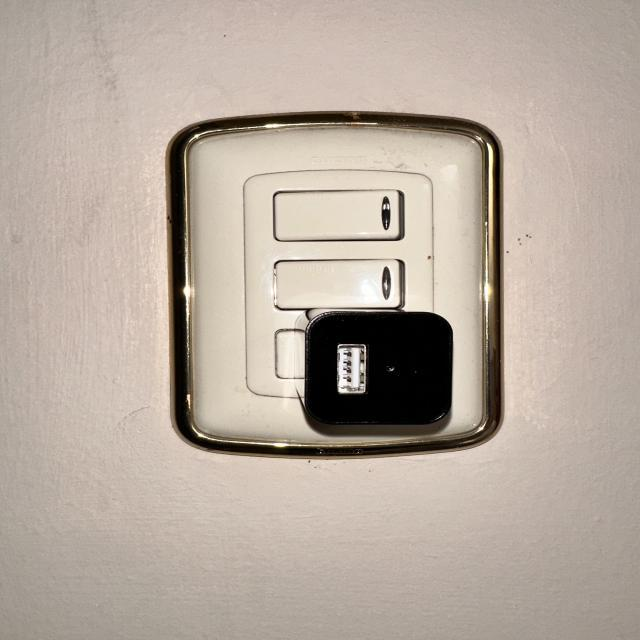hidden camera: (385, 365, 394, 372)
